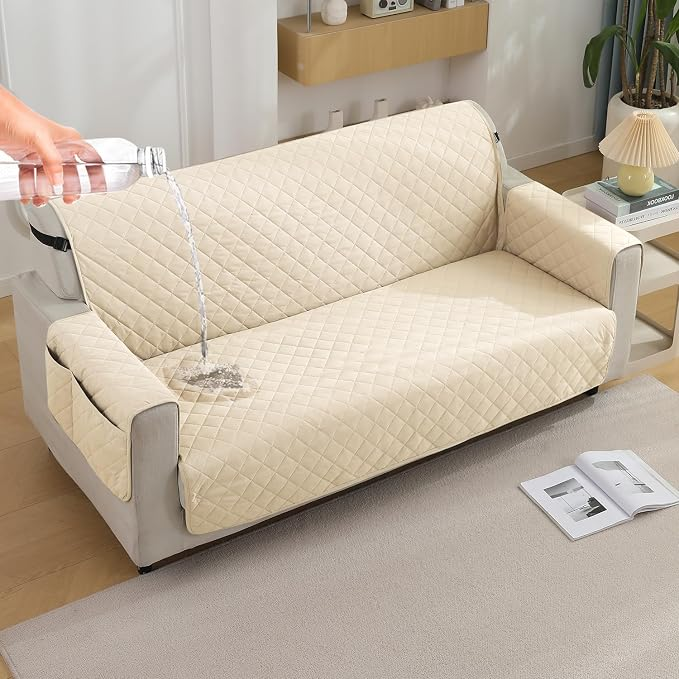3seatersofa: (10, 203, 640, 570), (175, 101, 638, 336), (55, 180, 195, 356)
backrest: (176, 102, 503, 337), (25, 173, 197, 358)
leftarmrest: (499, 162, 641, 381)
leg: (138, 565, 152, 574), (585, 388, 598, 395)
rightarmrest: (13, 268, 205, 566)
seat: (144, 251, 614, 552)
